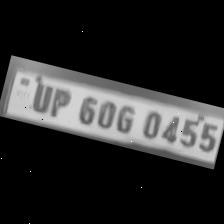0: (134, 105, 164, 140), (92, 96, 117, 128)
4: (158, 110, 182, 144)
5: (194, 118, 222, 154), (174, 114, 200, 150)
6: (70, 90, 100, 127)
G: (110, 100, 140, 134)
P: (46, 84, 74, 119)
U: (24, 77, 55, 115)
